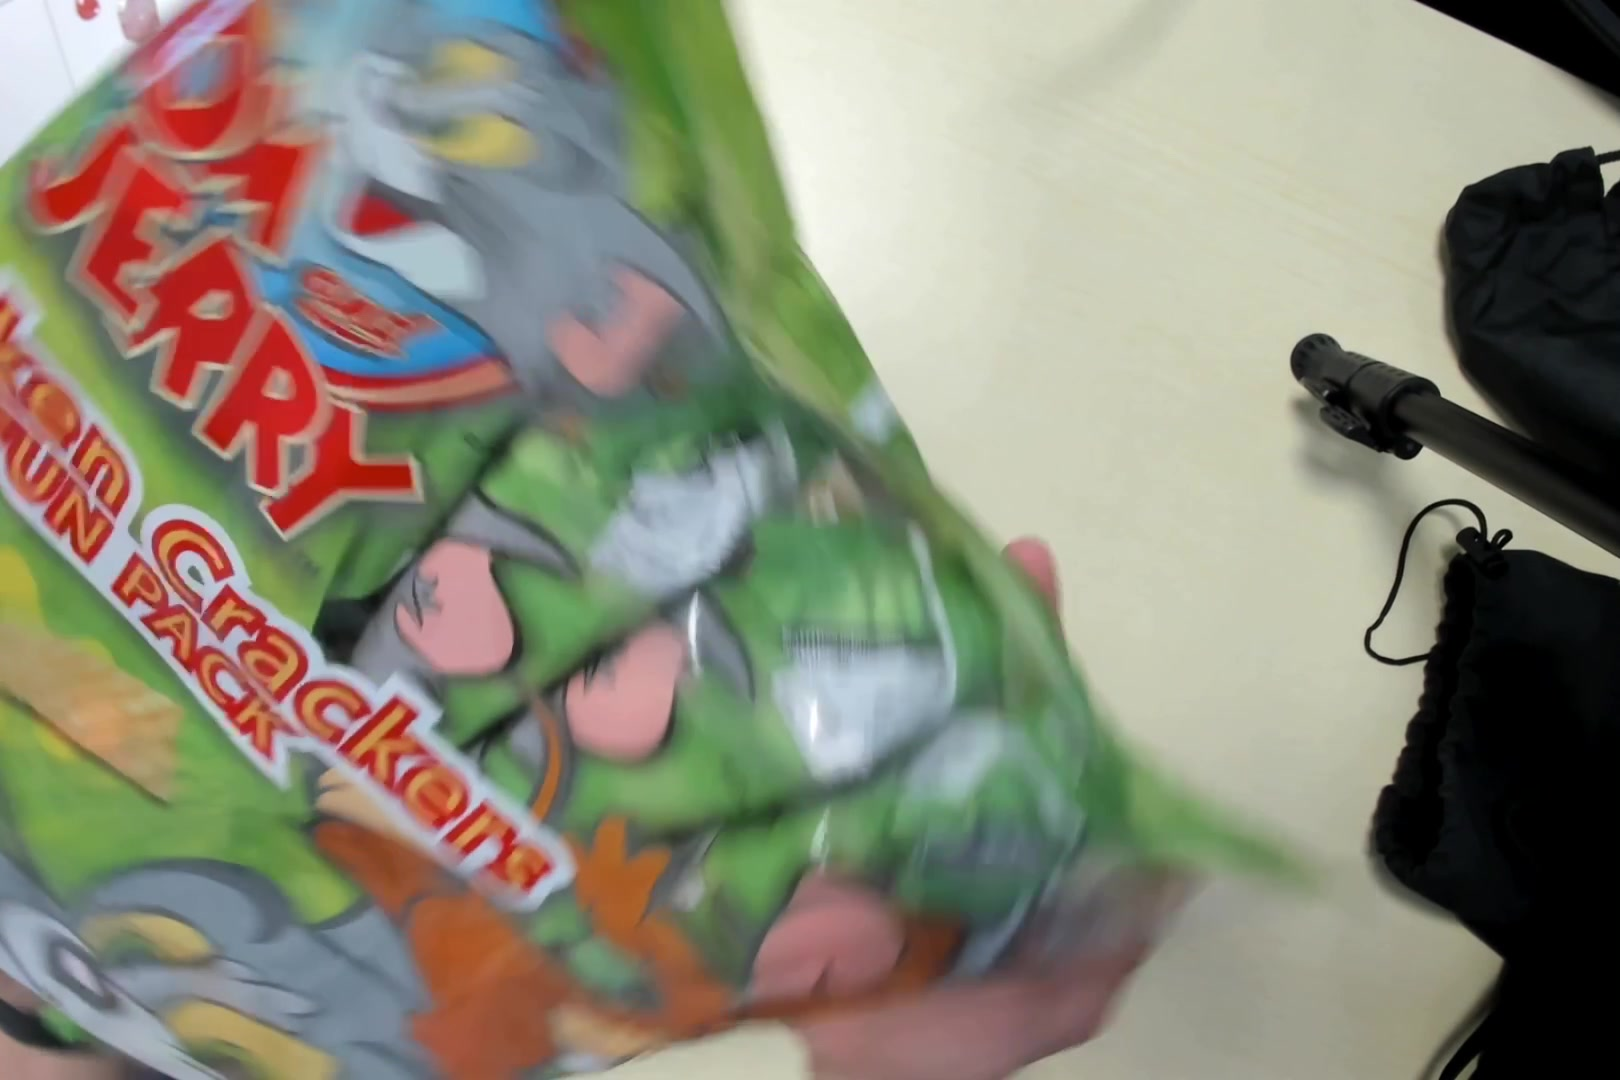PotatoChipsKeropok_200-299g_Halal_NonHealthy: (1, 1, 1133, 1080)
